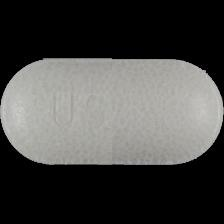0781-5710: (0, 0, 224, 224)
